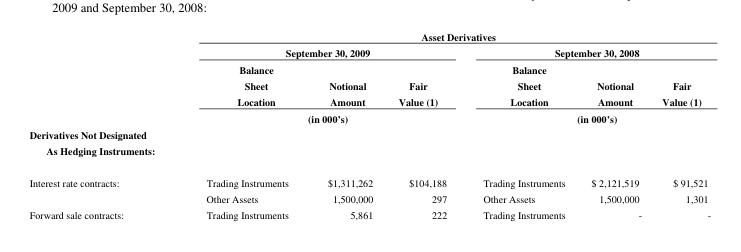table: (28, 29, 710, 221)
table column: (164, 29, 307, 221), (28, 29, 164, 221), (464, 29, 577, 221), (384, 29, 464, 221), (307, 29, 384, 221), (577, 29, 651, 221), (651, 29, 710, 221)
table column header: (28, 29, 710, 126)
table projected row header: (28, 142, 710, 166), (28, 126, 710, 142)
table row: (28, 61, 710, 110), (28, 142, 710, 166), (28, 166, 710, 190), (28, 44, 710, 61), (28, 110, 710, 126), (28, 126, 710, 142), (28, 190, 710, 206), (28, 29, 710, 44), (28, 206, 710, 221)
table spanning cell: (164, 29, 710, 44), (28, 166, 164, 206), (164, 44, 464, 61), (164, 110, 464, 126), (464, 44, 710, 61), (464, 110, 710, 126)
